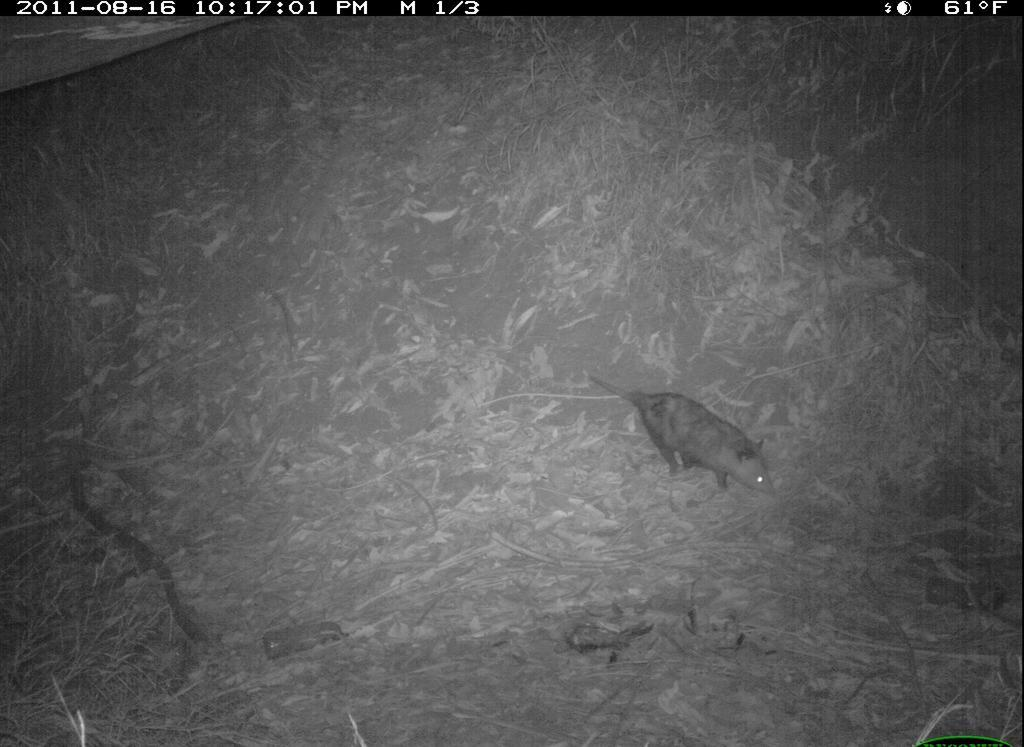opossum: (587, 363, 789, 510)
